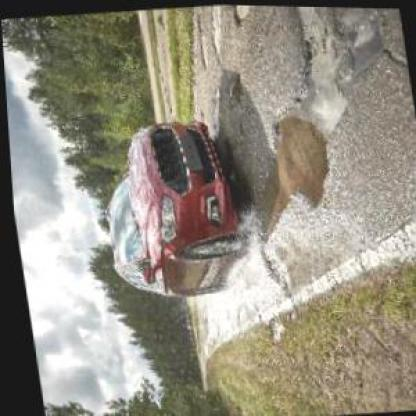pothole: (262, 87, 334, 207), (220, 68, 242, 105)
